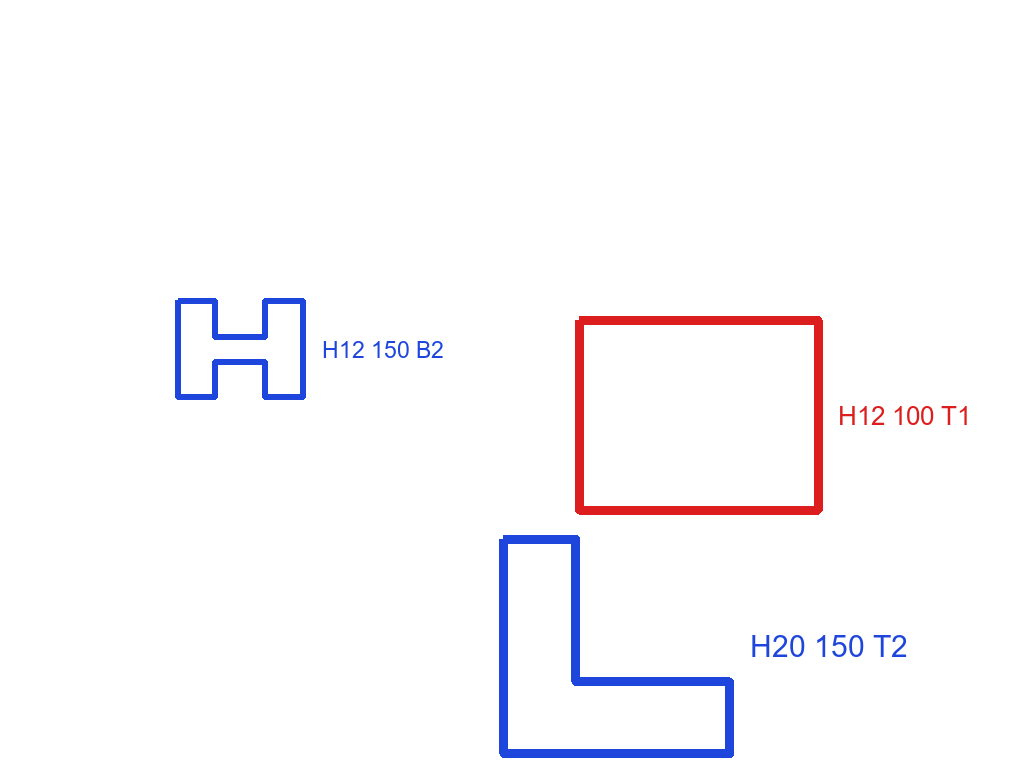shape: (497, 533, 736, 760), (573, 314, 825, 517), (173, 296, 307, 403)
text: (748, 633, 910, 659), (836, 404, 973, 427), (320, 339, 446, 360)
